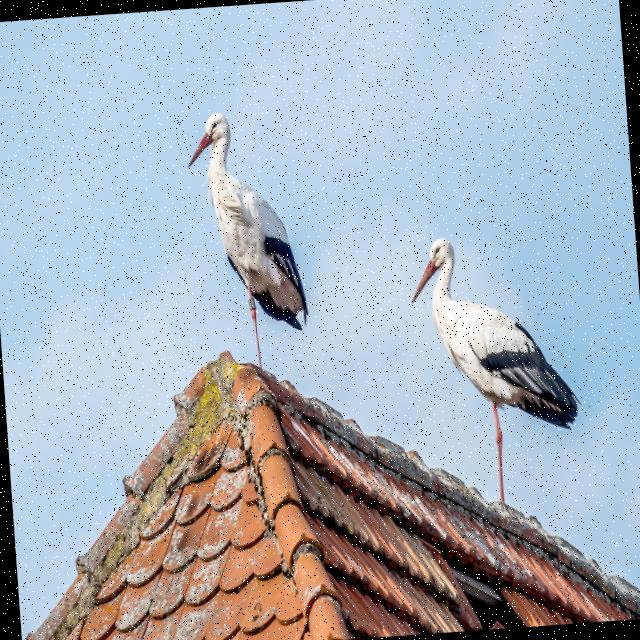bird: (405, 226, 589, 512), (182, 105, 314, 372)
